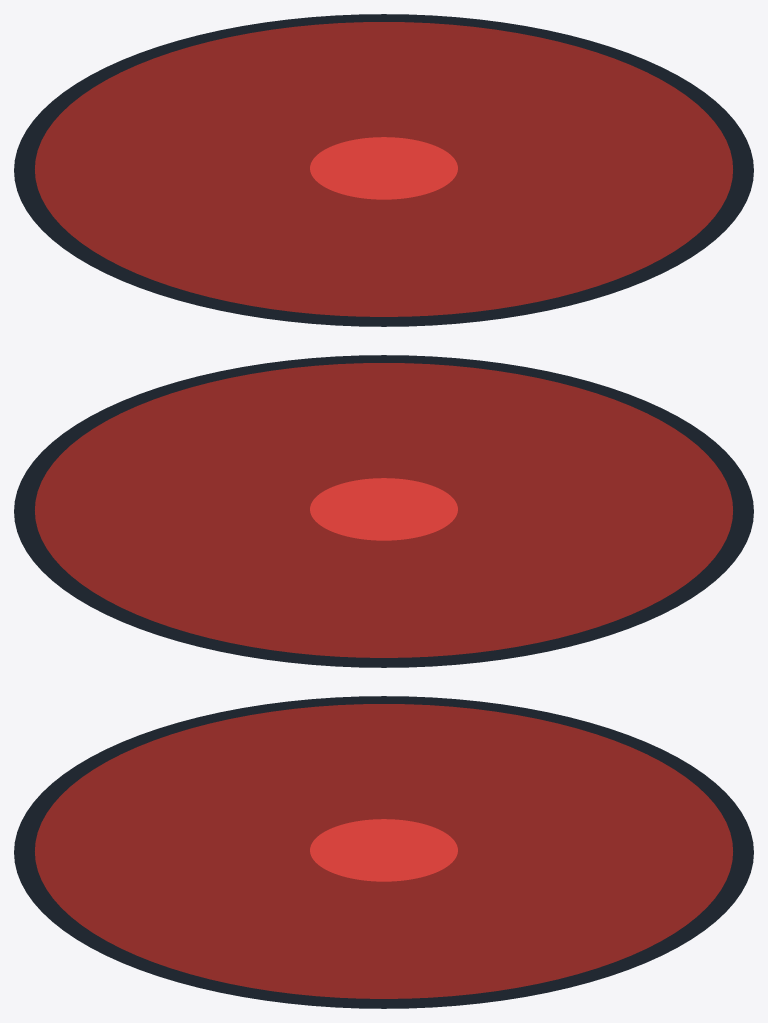
3 renders of one model, top to bottom at view 1: azimuth 30°, elevation 25°; view 2: azimuth 150°, elevation 25°; view 3: azimuth 270°, elevation 25°, orthographic.
Size of what is drawn, in the model's own units: 3.2 by 0.01 by 3.2.
3 materials, 3 textured.
